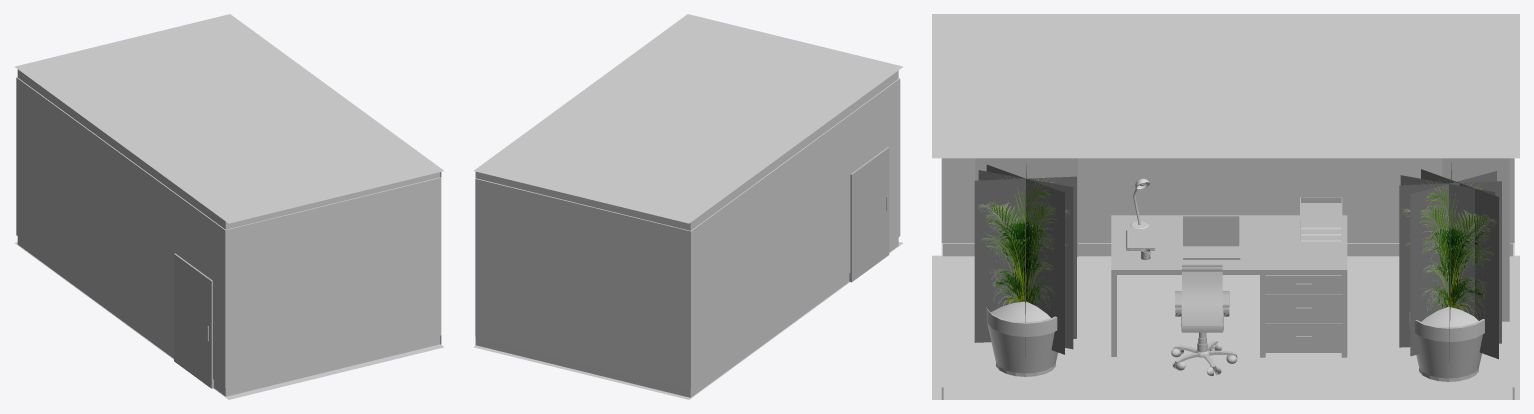
Rendered from office_complete.fbx.
3 renders of one model, left to right at view 1: azimuth 30°, elevation 25°; view 2: azimuth 150°, elevation 25°; view 3: azimuth 270°, elevation 25°, orthographic. The views are drawn at different scales.
Parts seen in each view (by area): view 1: walls, roof, door, floor; view 2: walls, roof, door, floor; view 3: roof, floor, walls, Box005, Plant005, Plant006, Plant007, Sphere010, Plant008, Plant003, vase02, vase01 (+10 smaller).
Boxes of the visible parts, x1,y1,x2,y2 form: walls: [16, 15, 441, 396]; roof: [15, 14, 443, 223]; door: [174, 253, 213, 388]; floor: [15, 242, 443, 399]; walls: [475, 17, 900, 398]; roof: [474, 14, 902, 223]; door: [849, 147, 889, 282]; floor: [474, 242, 902, 399]; roof: [932, 14, 1519, 158]; floor: [932, 255, 1519, 399]; walls: [941, 14, 1514, 399]; Box005: [1111, 215, 1347, 357]; Plant005: [974, 176, 1076, 342]; Plant006: [986, 164, 1064, 354]; Plant007: [1410, 171, 1496, 356]; Sphere010: [1171, 264, 1237, 376]; Plant008: [1421, 169, 1498, 359]; Plant003: [1400, 175, 1495, 316]; vase02: [986, 307, 1057, 376]; vase01: [1409, 312, 1484, 381].
Size of the model in its own units: 495 by 381 by 840.
